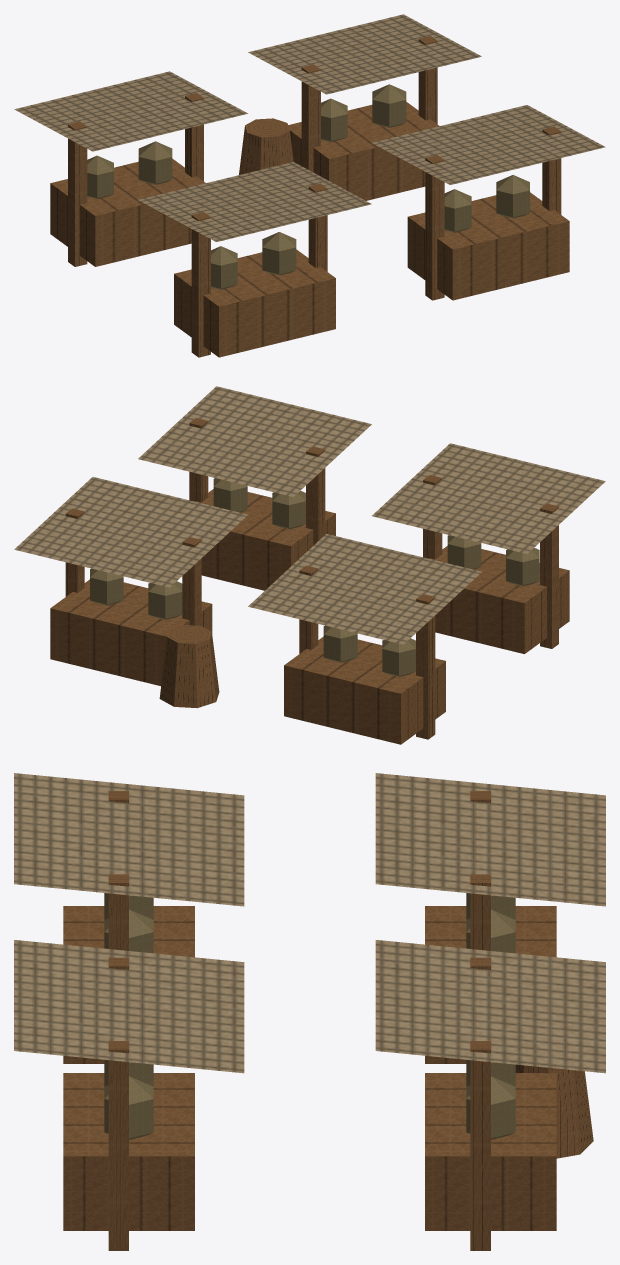
Rendered from domestic-MARKET-3-lod0.glb.
The picture shows the model from 3 angles, top to bottom: view 1: azimuth 30°, elevation 25°; view 2: azimuth 150°, elevation 25°; view 3: azimuth 270°, elevation 25°; orthographic projection. The views are drawn at different scales.
Bounding box in the file's own units: 0.8 × 0.28 × 0.72.
1 material, 1 textured.
